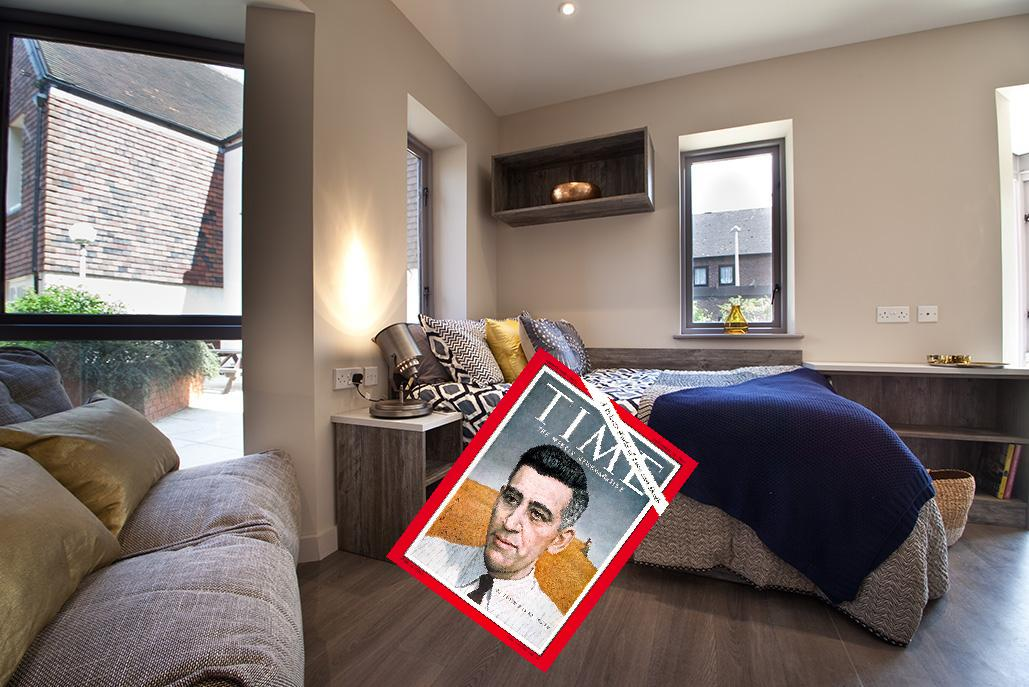times: (383, 346, 697, 672)
